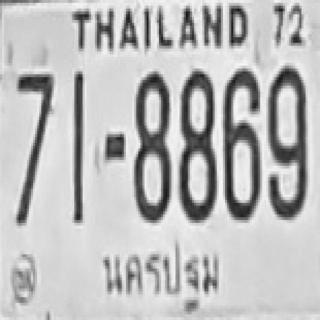N01: (71, 70, 84, 198)
N06: (222, 67, 259, 218)
N07: (13, 72, 53, 223), (16, 71, 52, 194), (16, 71, 52, 174)
N08: (178, 68, 215, 220), (132, 68, 169, 220)
N09: (266, 66, 306, 217)
P28: (92, 241, 225, 301)
